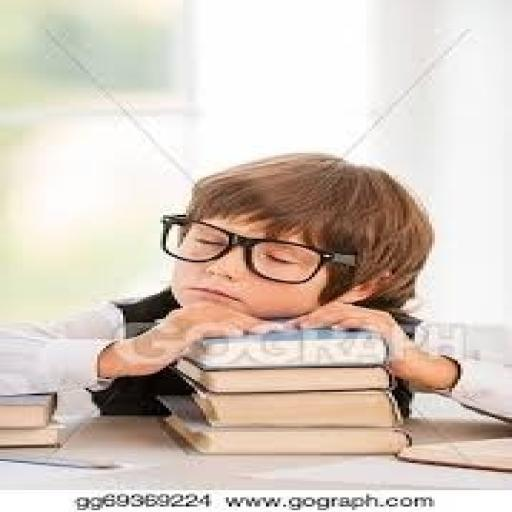sleeping: (0, 149, 506, 422)
